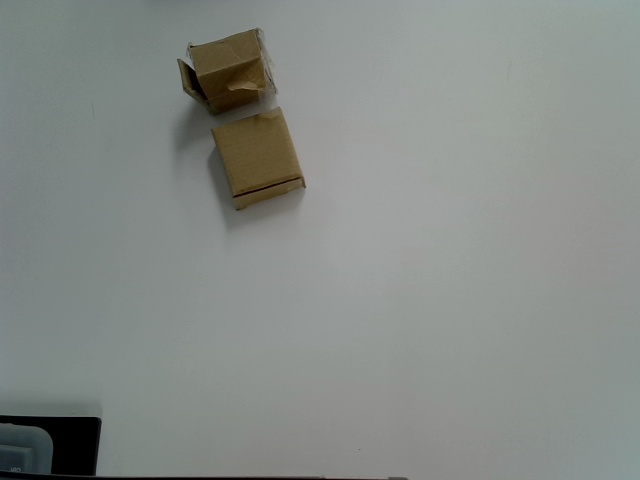defect: (178, 28, 280, 117)
normal: (210, 105, 308, 212)
